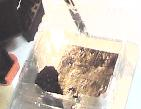berry: (35, 66, 57, 90)
